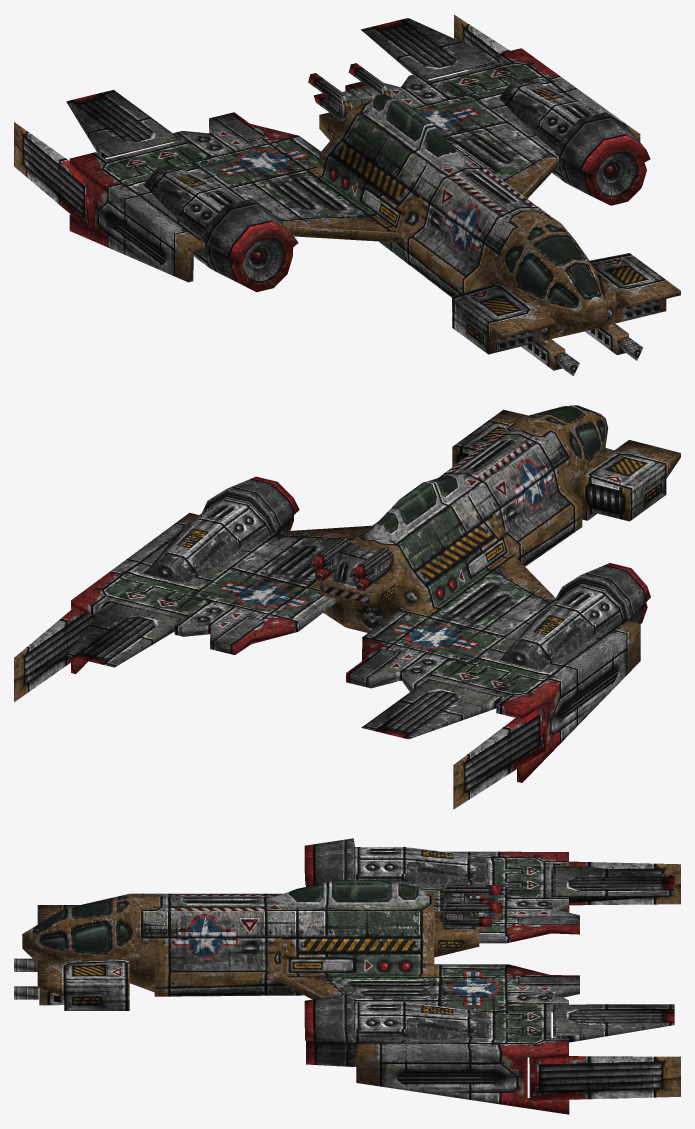
The model's file is reaper.glb.
The picture shows the model from 3 angles, top to bottom: view 1: azimuth 30°, elevation 25°; view 2: azimuth 150°, elevation 25°; view 3: azimuth 270°, elevation 25°; orthographic projection. The views are drawn at different scales.
Visible parts, largest first — view 1: Reaper Body, Reaper Frnt Cpit, Reaper back fin 2, Reaper back fin 1, Reaper side fin 2, Reaper Top Cpit, Reaper rear gun 2, Reaper side fin 1, Reaper rear gun 1; view 2: Reaper Body, Reaper Frnt Cpit, Reaper side fin 2, Reaper back fin 1, Reaper back fin 2, Reaper side fin 1, Reaper Top Cpit, Reaper rear gun 2, Reaper rear turret, Reaper rear gun 1; view 3: Reaper Body, Reaper Frnt Cpit, Reaper side fin 1, Reaper back fin 2, Reaper back fin 1, Reaper Top Cpit, Reaper side fin 2, Reaper rear gun 1, Reaper rear gun 2.
Part boxes in pixels (x1=…): Reaper Body: x1=69, y1=48, x2=650, y2=297; Reaper Frnt Cpit: x1=452, y1=224, x2=680, y2=376; Reaper back fin 2: x1=361, y1=18, x2=503, y2=80; Reaper back fin 1: x1=66, y1=90, x2=180, y2=158; Reaper side fin 2: x1=14, y1=122, x2=92, y2=230; Reaper Top Cpit: x1=366, y1=94, x2=465, y2=166; Reaper rear gun 2: x1=308, y1=73, x2=352, y2=120; Reaper side fin 1: x1=454, y1=14, x2=509, y2=70; Reaper rear gun 1: x1=348, y1=63, x2=392, y2=97; Reaper Body: x1=71, y1=418, x2=650, y2=782; Reaper Frnt Cpit: x1=452, y1=405, x2=680, y2=521; Reaper side fin 2: x1=453, y1=705, x2=545, y2=809; Reaper back fin 1: x1=361, y1=679, x2=504, y2=739; Reaper back fin 2: x1=67, y1=600, x2=182, y2=667; Reaper side fin 1: x1=14, y1=609, x2=95, y2=702; Reaper Top Cpit: x1=366, y1=475, x2=466, y2=542; Reaper rear gun 2: x1=349, y1=547, x2=393, y2=591; Reaper rear turret: x1=333, y1=543, x2=377, y2=587; Reaper rear gun 1: x1=309, y1=538, x2=351, y2=581; Reaper Body: x1=129, y1=838, x2=579, y2=1114; Reaper Frnt Cpit: x1=14, y1=894, x2=129, y2=1010; Reaper side fin 1: x1=529, y1=1056, x2=680, y2=1100; Reaper back fin 2: x1=553, y1=1004, x2=674, y2=1042; Reaper back fin 1: x1=553, y1=863, x2=674, y2=902; Reaper Top Cpit: x1=271, y1=880, x2=428, y2=905; Reaper side fin 2: x1=551, y1=861, x2=680, y2=905; Reaper rear gun 1: x1=440, y1=902, x2=501, y2=926; Reaper rear gun 2: x1=440, y1=884, x2=501, y2=905.
Bounding box in the file's own units: 1012 × 316 × 1426.
1 material, 1 textured.
